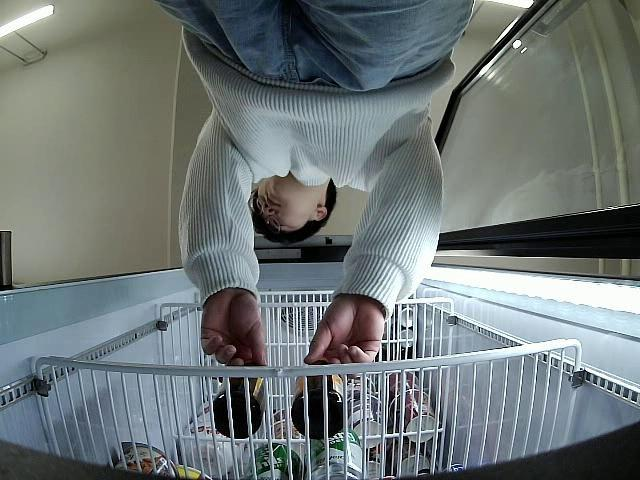17_vita500: (292, 358, 346, 440), (212, 359, 266, 440)
